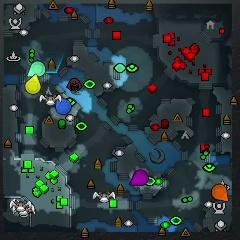p1: (55, 98, 71, 114)
p2: (28, 62, 45, 76)
p3: (130, 168, 148, 186)
p4: (26, 74, 41, 93)
p5: (212, 185, 228, 201)
